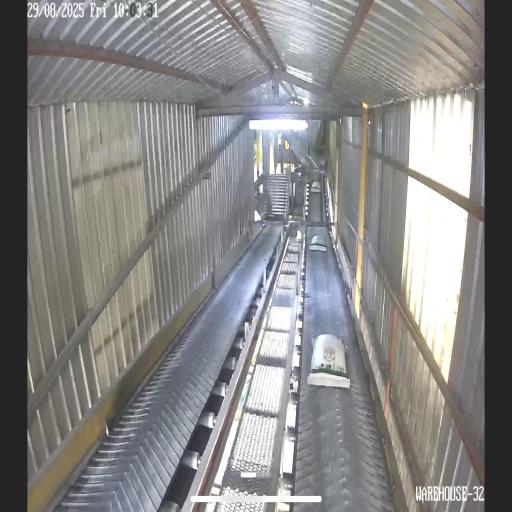c-belt-sack-count: (307, 334, 350, 388), (310, 236, 326, 250)
